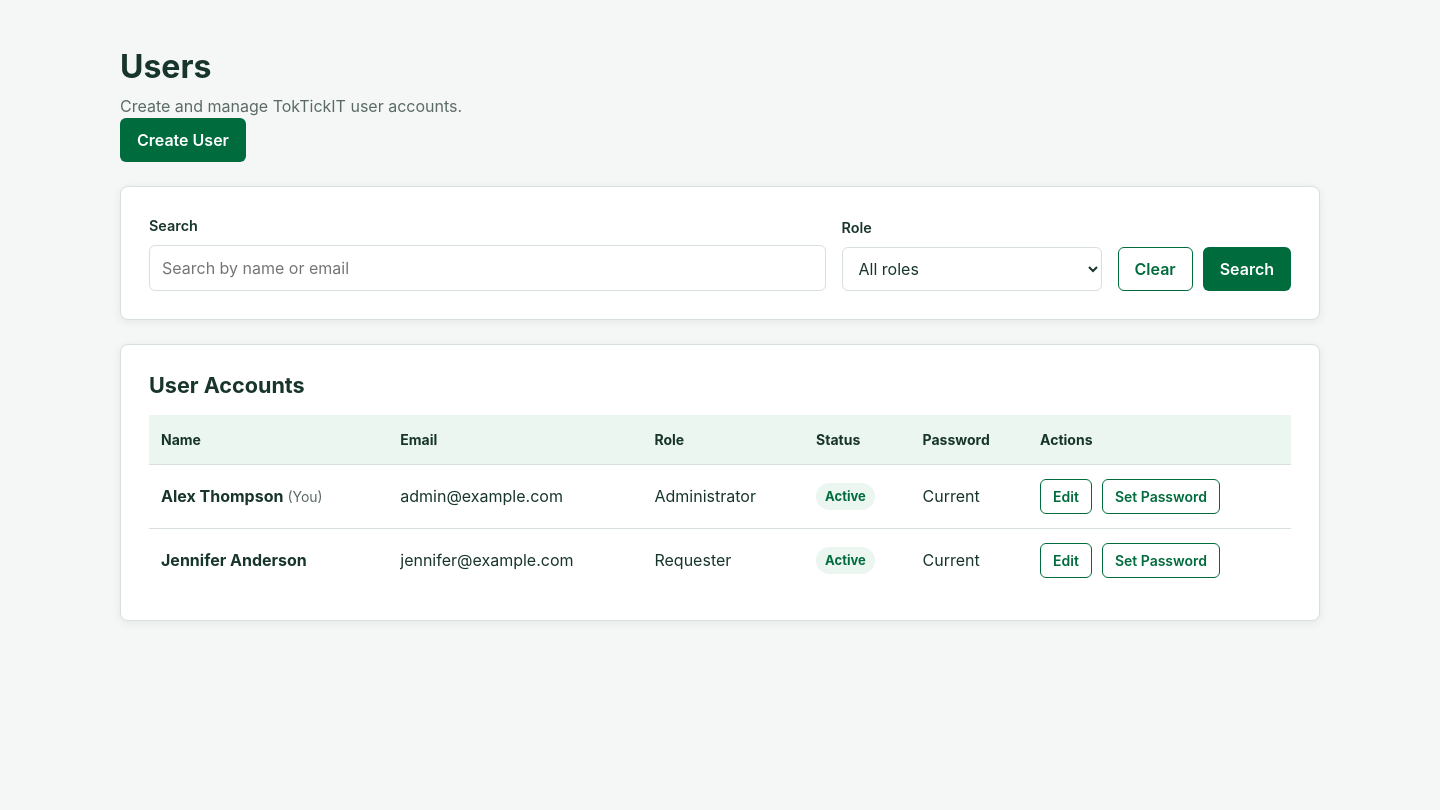
Test: UserManagement › creates a user account
Expected: the text "Jennifer Anderson" is shown, [161,550,307,570]
Click the button "Create User".
click(183, 140)  # box [120,118,246,162]
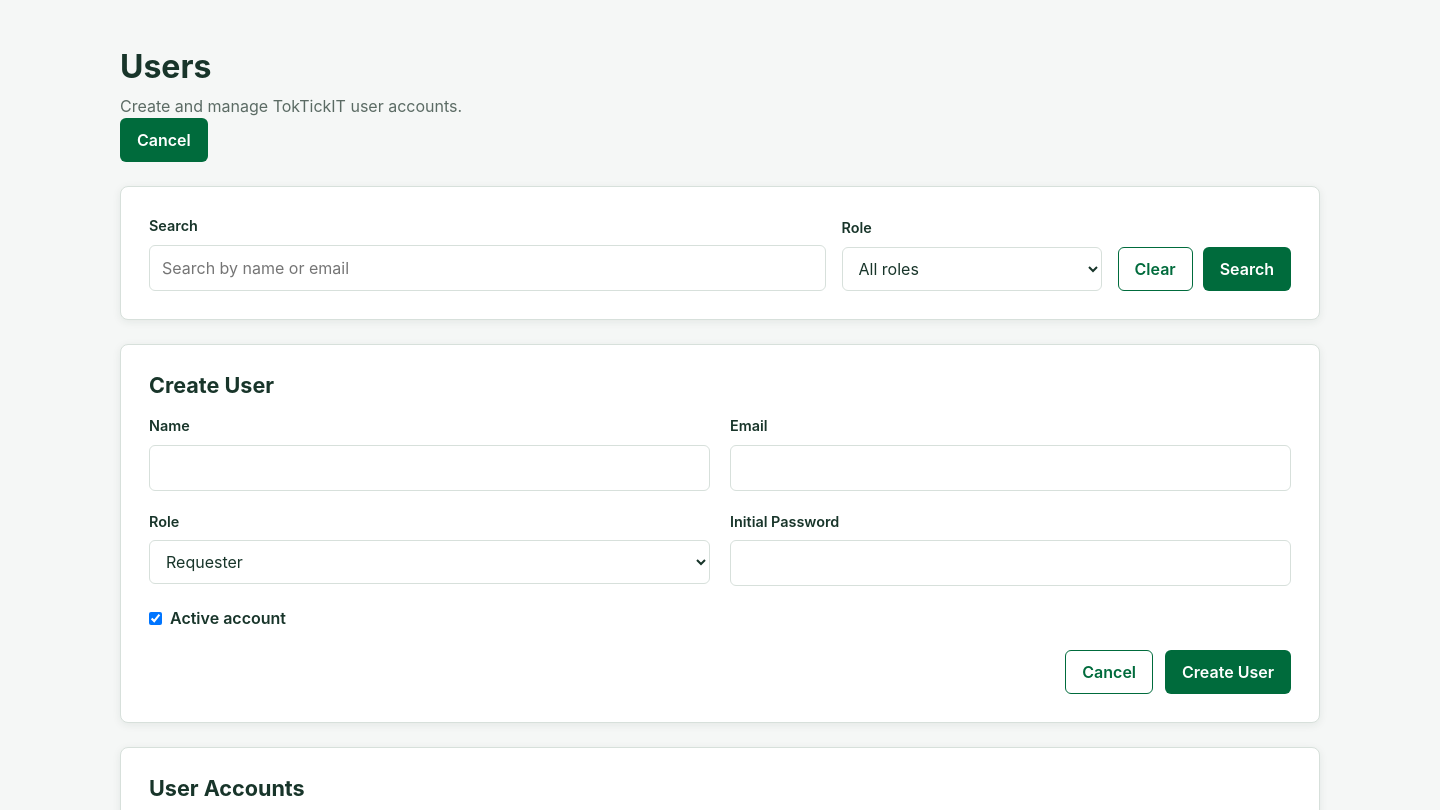
Type "Emily Davis" into the field labelled "Name".
click(430, 468); type("Emily Davis")  # box [149,444,710,490]
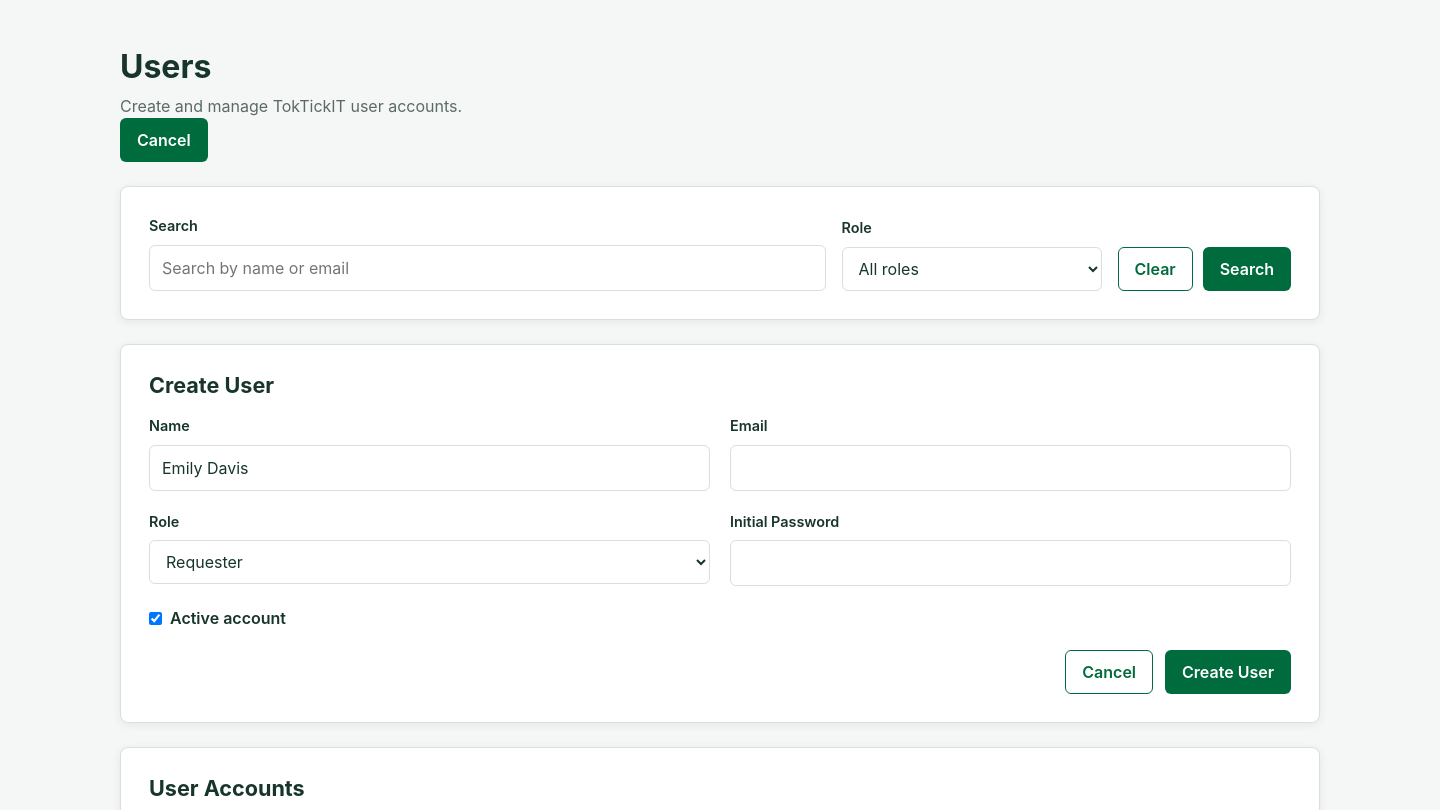
Type "emily@example.com" into the field labelled "Email".
click(1010, 468); type("emily@example.com")  # box [730,444,1291,490]
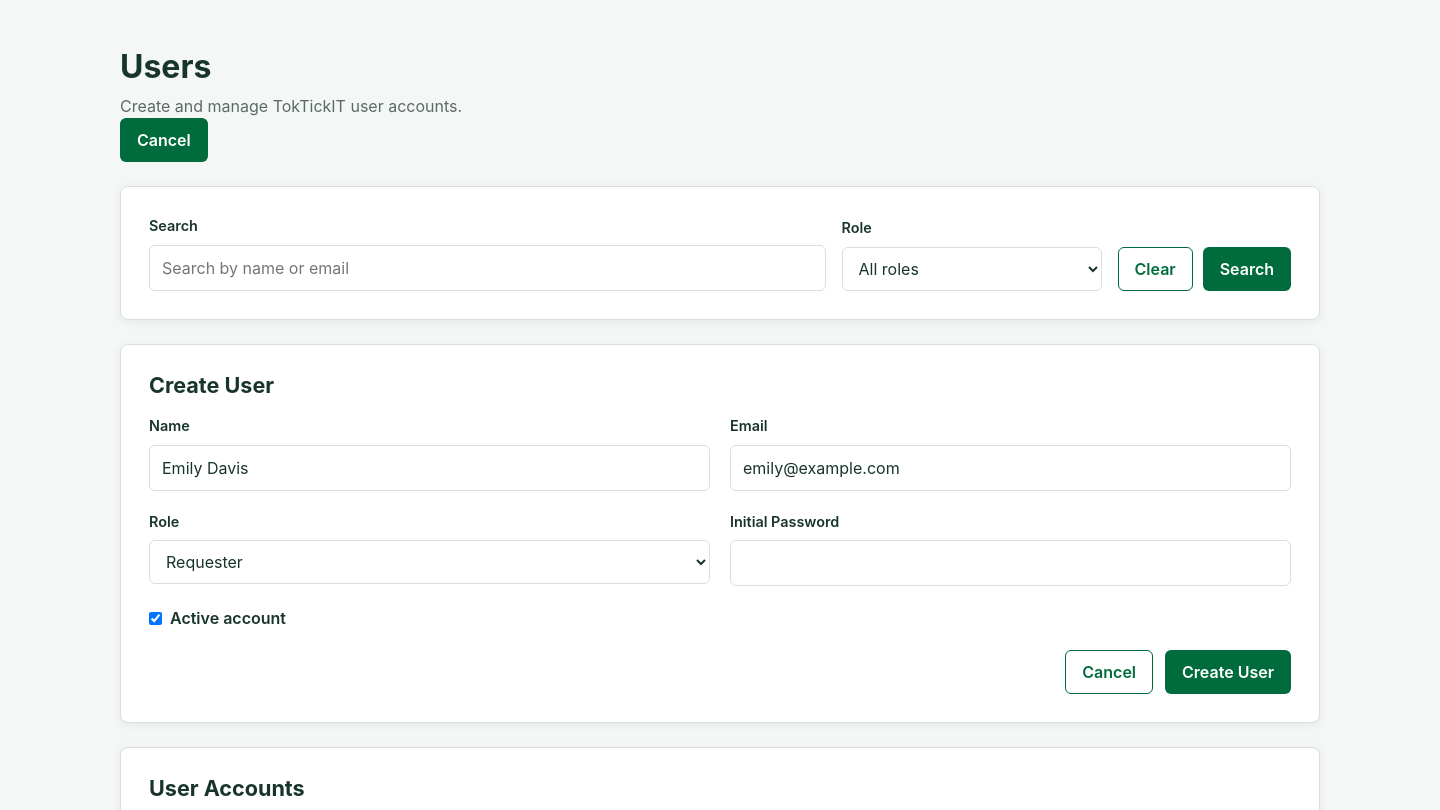
Select "IT Staff" in the dropdown labelled "Role" below "Initial Password" at (430, 562), box [149,540,710,584]
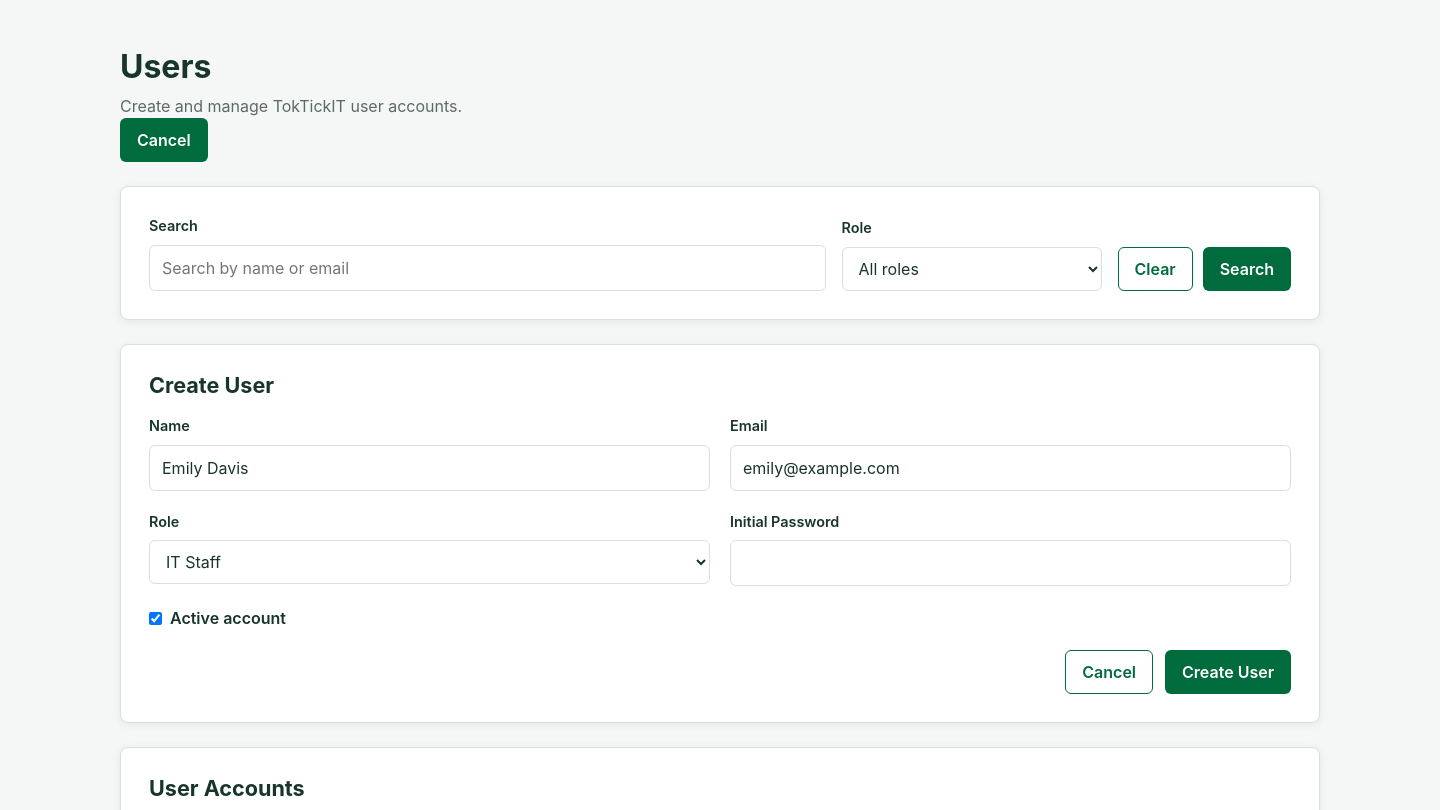
Type "Initial1!" into the password field labelled "Initial Password".
click(1010, 563); type("Initial1!")  # box [730,540,1291,586]
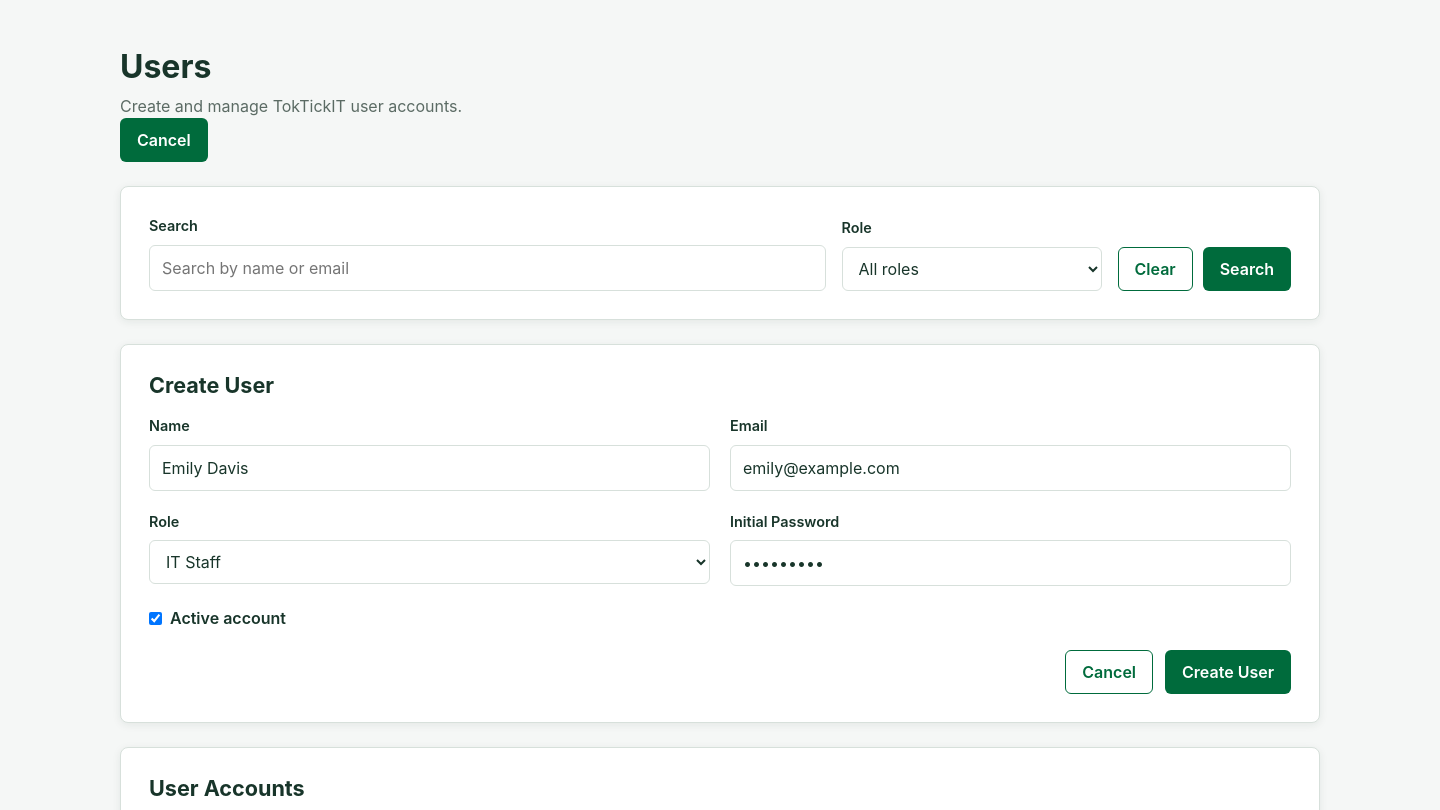
Click the button "Create User".
click(1228, 672)  # box [1165,650,1291,694]
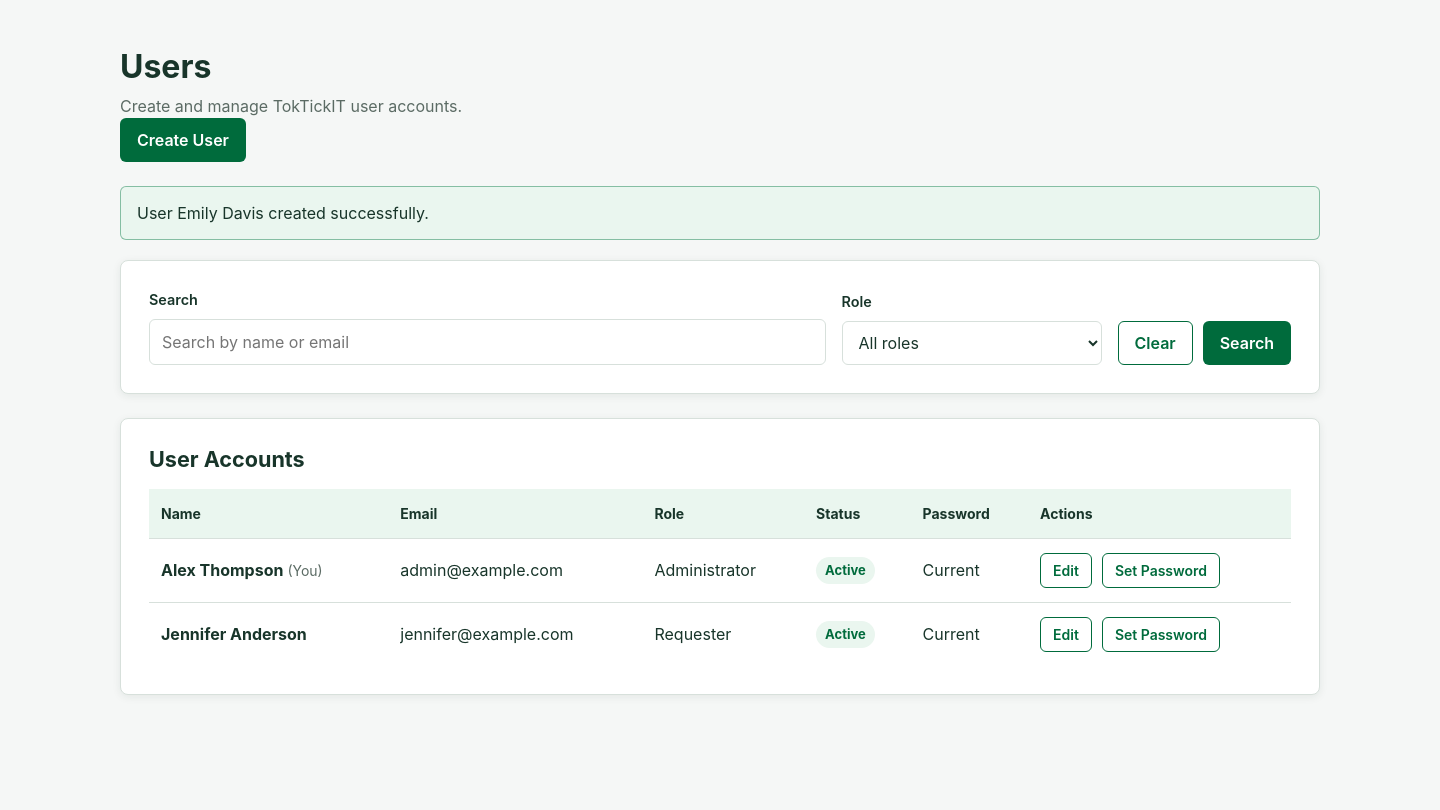
Expected: the message reads "User Emily Davis created successfully.", [137,203,429,223]
